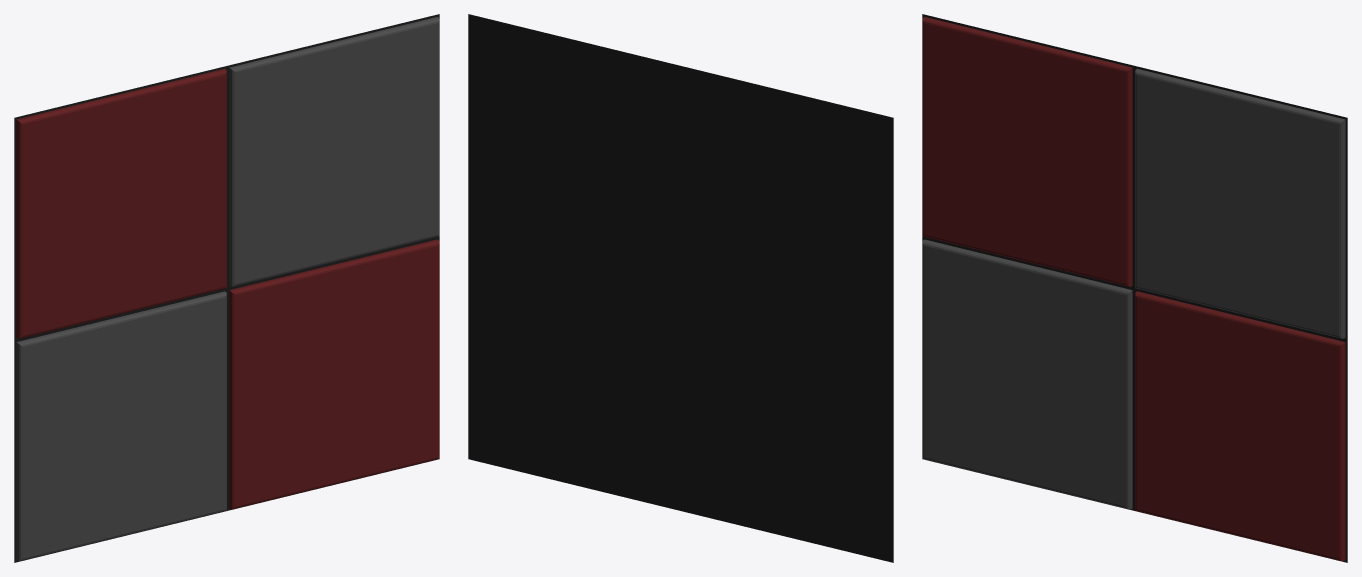
The model's file is Padio.fbx.
3 renders of one model, left to right at view 1: azimuth 30°, elevation 25°; view 2: azimuth 150°, elevation 25°; view 3: azimuth 330°, elevation 25°, orthographic.
Parts seen in each view (by area): view 1: Cube.001; view 2: Cube.001; view 3: Cube.001.
Boxes of the visible parts, bbox=[...] form: Cube.001: bbox=[14, 14, 439, 562]; Cube.001: bbox=[468, 14, 893, 562]; Cube.001: bbox=[922, 14, 1347, 562].
Bounding box in the file's own units: 100 × 100 × 1.36.
